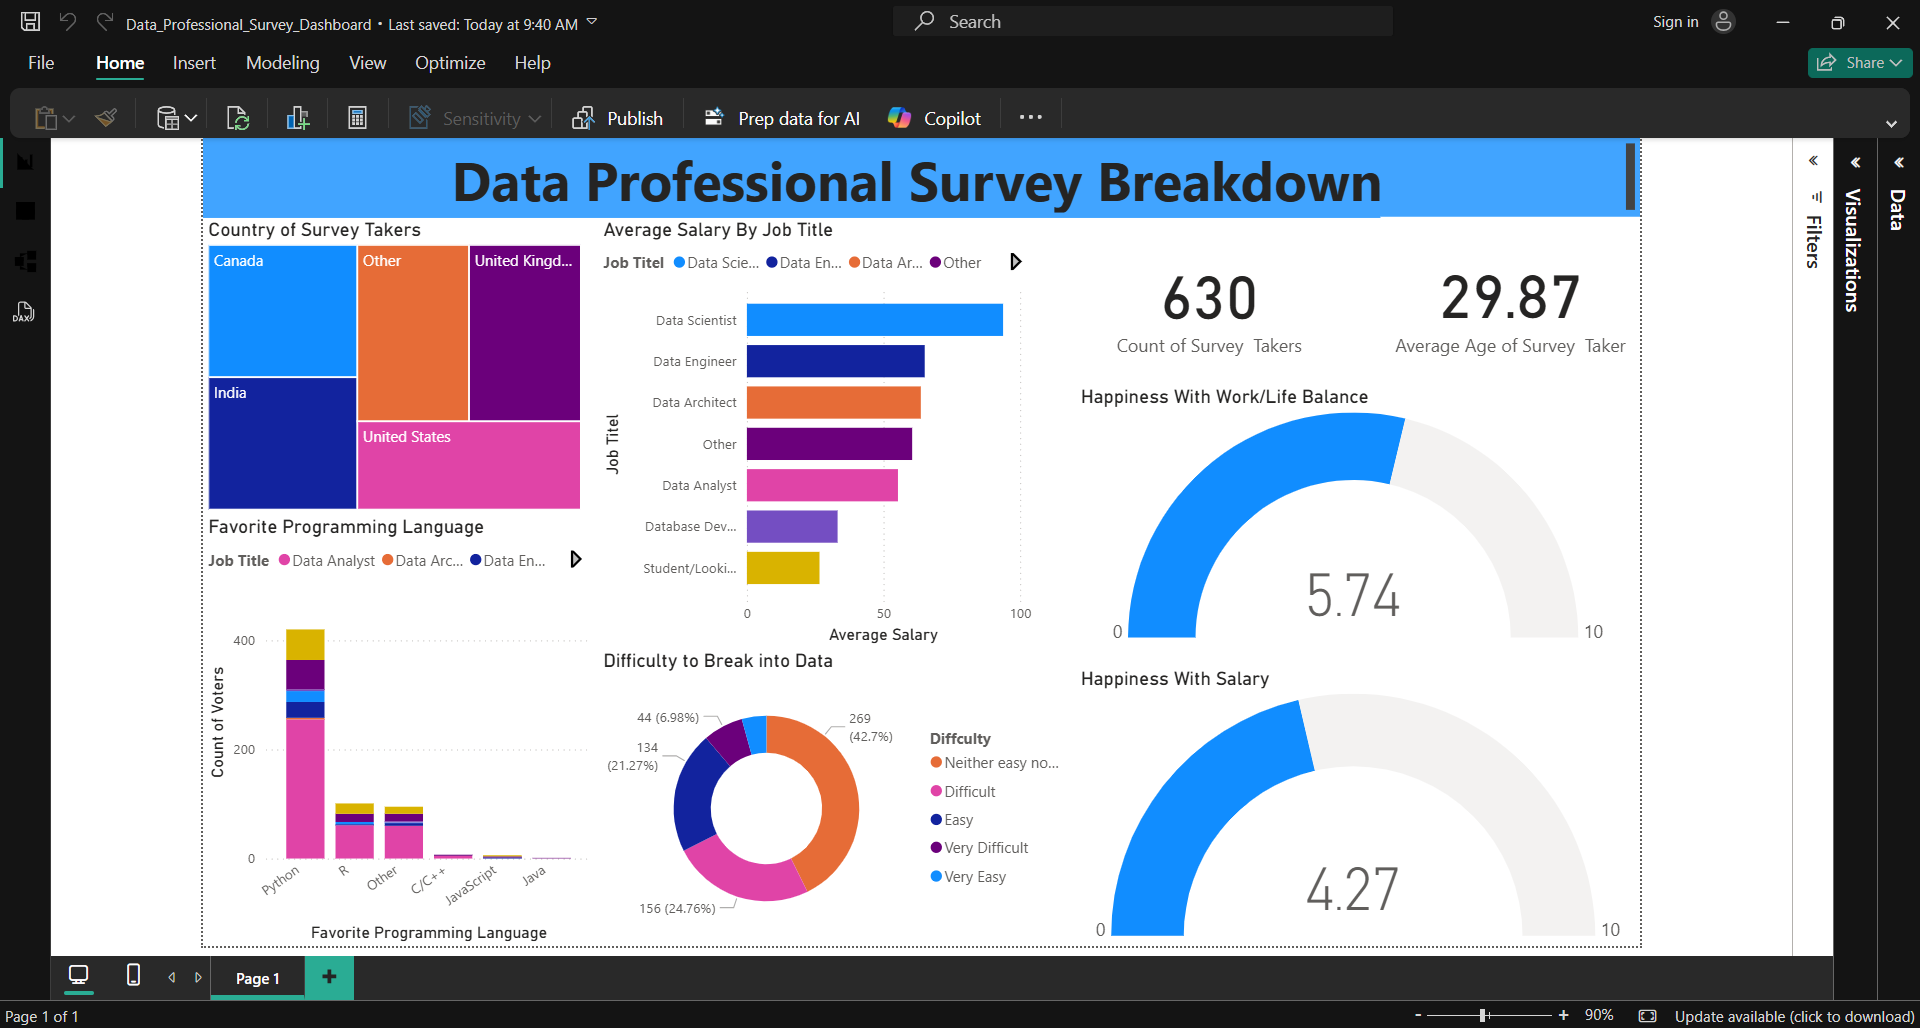

The page's visual inventory and layout, read from the dashboard file:
{"tool":"powerbi","page":{"name":"Page 1","canvas":[1280,720],"ordinal":0},"visuals":[{"type":"textbox","box":[0,0,1280.3,71.4],"z":0},{"type":"card","fields":{"Values":["Count(Data Professional Survey.Unique ID)"]},"box":[776.7,71.4,238.8,149.6],"z":1000},{"type":"card","fields":{"Values":["Avg(Data Professional Survey.Q10 - Current Age)"]},"box":[1048.4,70,231.9,150.9],"z":2000},{"type":"barChart","title":"Average Salary By Job Title","fields":{"Category":["Data Professional Survey.Q1 - Which Title Best Fits your Current Role?.1"],"Y":["Avg(Data Professional Survey.Average Salary)"],"Series":["Data Professional Survey.Q1 - Which Title Best Fits your Current Role?.1"]},"box":[351.3,71.4,391.1,384.2],"z":3000},{"type":"columnChart","title":"Favorite Programming Language","fields":{"Category":["Data Professional Survey.Q5 - Favorite Programming Language.1"],"Y":["CountNonNull(Data Professional Survey.Unique ID)"],"Series":["Data Professional Survey.Q1 - Which Title Best Fits your Current Role?.1"]},"box":[0,336.2,351.3,384.2],"z":4000},{"type":"treemap","title":"Country of Survey Takers","fields":{"Values":["Count(Data Professional Survey.Q11 - Which Country do you live in?.1)"],"Group":["Data Professional Survey.Q11 - Which Country do you live in?.1"]},"box":[0,71.4,341.7,264.8],"z":5000},{"type":"gauge","title":"Happiness With Work/Life Balance","fields":{"Y":["Avg(Data Professional Survey.Q6 - How Happy are you in your Current Position with the following? (Work/Life Balance))"],"MinValue":["Min(Data Professional Survey.Q6 - How Happy are you in your Current Position with the following? (Work/Life Balance))"],"MaxValue":["Max(Data Professional Survey.Q6 - How Happy are you in your Current Position with the following? (Work/Life Balance))1"]},"box":[776.7,220.9,503.6,234.6],"z":6000},{"type":"gauge","title":"Happiness With Salary","fields":{"Y":["Avg(Data Professional Survey.Q6 - How Happy are you in your Current Position with the following? (Salary))"],"MinValue":["Min(Data Professional Survey.Q6 - How Happy are you in your Current Position with the following? (Salary))"],"MaxValue":["Max(Data Professional Survey.Q6 - How Happy are you in your Current Position with the following? (Salary))"]},"box":[776.7,470.7,503.6,249.7],"z":7000},{"type":"donutChart","title":"Difficulty to Break into Data","fields":{"Y":["CountNonNull(Data Professional Survey.Q7 - How difficult was it for you to break into Data?)"],"Category":["Data Professional Survey.Q7 - How difficult was it for you to break into Data?"]},"box":[351.3,455.6,425.4,264.8],"z":7001}]}

Visuals, with their boxes on the page's 1280x720 design canvas (x1, y1, x2, y2). These are canvas units, not pixel positions in the 1920x1028 screenshot, which may show the page scaled, cropped or inside an application window:
textbox: bbox=[0, 0, 1280, 71]
card - Count(Data Professional Survey.Unique ID): bbox=[777, 71, 1016, 221]
card - Avg(Data Professional Survey.Q10 - Current Age): bbox=[1048, 70, 1280, 221]
"Average Salary By Job Title" barChart: bbox=[351, 71, 742, 456]
"Favorite Programming Language" columnChart: bbox=[0, 336, 351, 720]
"Country of Survey Takers" treemap: bbox=[0, 71, 342, 336]
"Happiness With Work/Life Balance" gauge: bbox=[777, 221, 1280, 456]
"Happiness With Salary" gauge: bbox=[777, 471, 1280, 720]
"Difficulty to Break into Data" donutChart: bbox=[351, 456, 777, 720]
